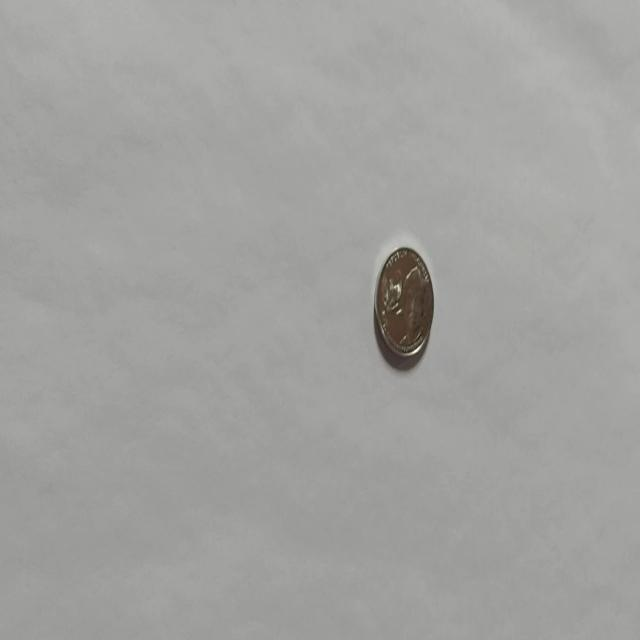dua ratus rupiah: (373, 244, 434, 362)
